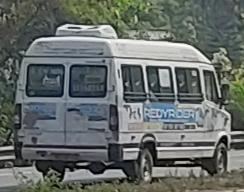Auto: (13, 22, 233, 182)
